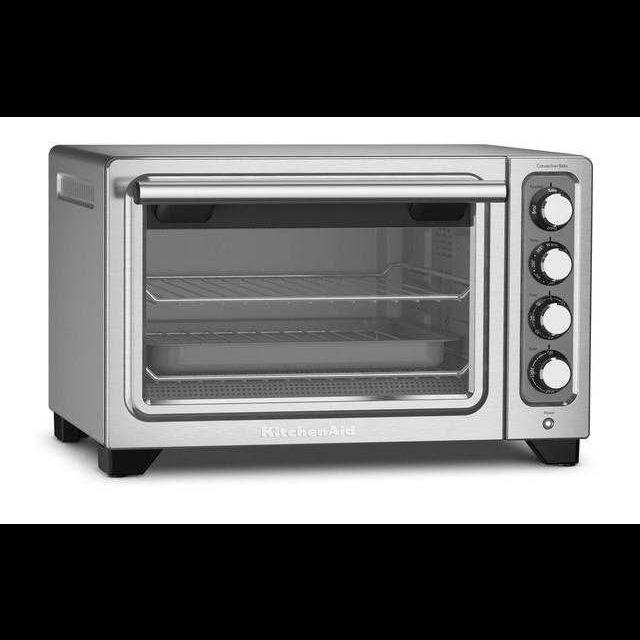Oven: (47, 141, 593, 463)
